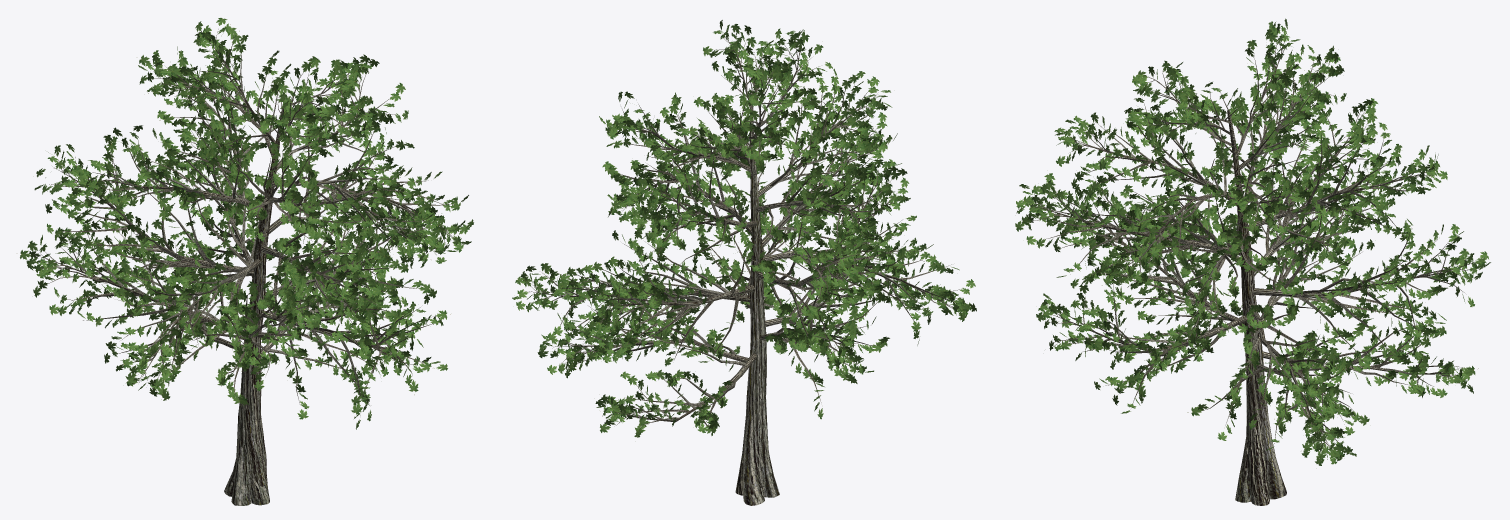
Rendered from maple_tree.glb.
The picture shows the model from 3 angles, left to right: view 1: azimuth 30°, elevation 25°; view 2: azimuth 150°, elevation 25°; view 3: azimuth 270°, elevation 25°; orthographic projection. The views are drawn at different scales.
Parts seen in each view (by area): view 1: leaves, bark; view 2: leaves, bark; view 3: leaves, bark.
Part boxes in pixels (<box>): leaves: <box>20,18,473,429</box>; bark: <box>35,29,460,505</box>; leaves: <box>512,20,976,437</box>; bark: <box>526,34,960,505</box>; leaves: <box>1015,18,1490,465</box>; bark: <box>1028,33,1475,505</box>.
Size of the model in its own units: 3.87 by 4.39 by 4.15.
Materials: 2 (2 with a texture image).
